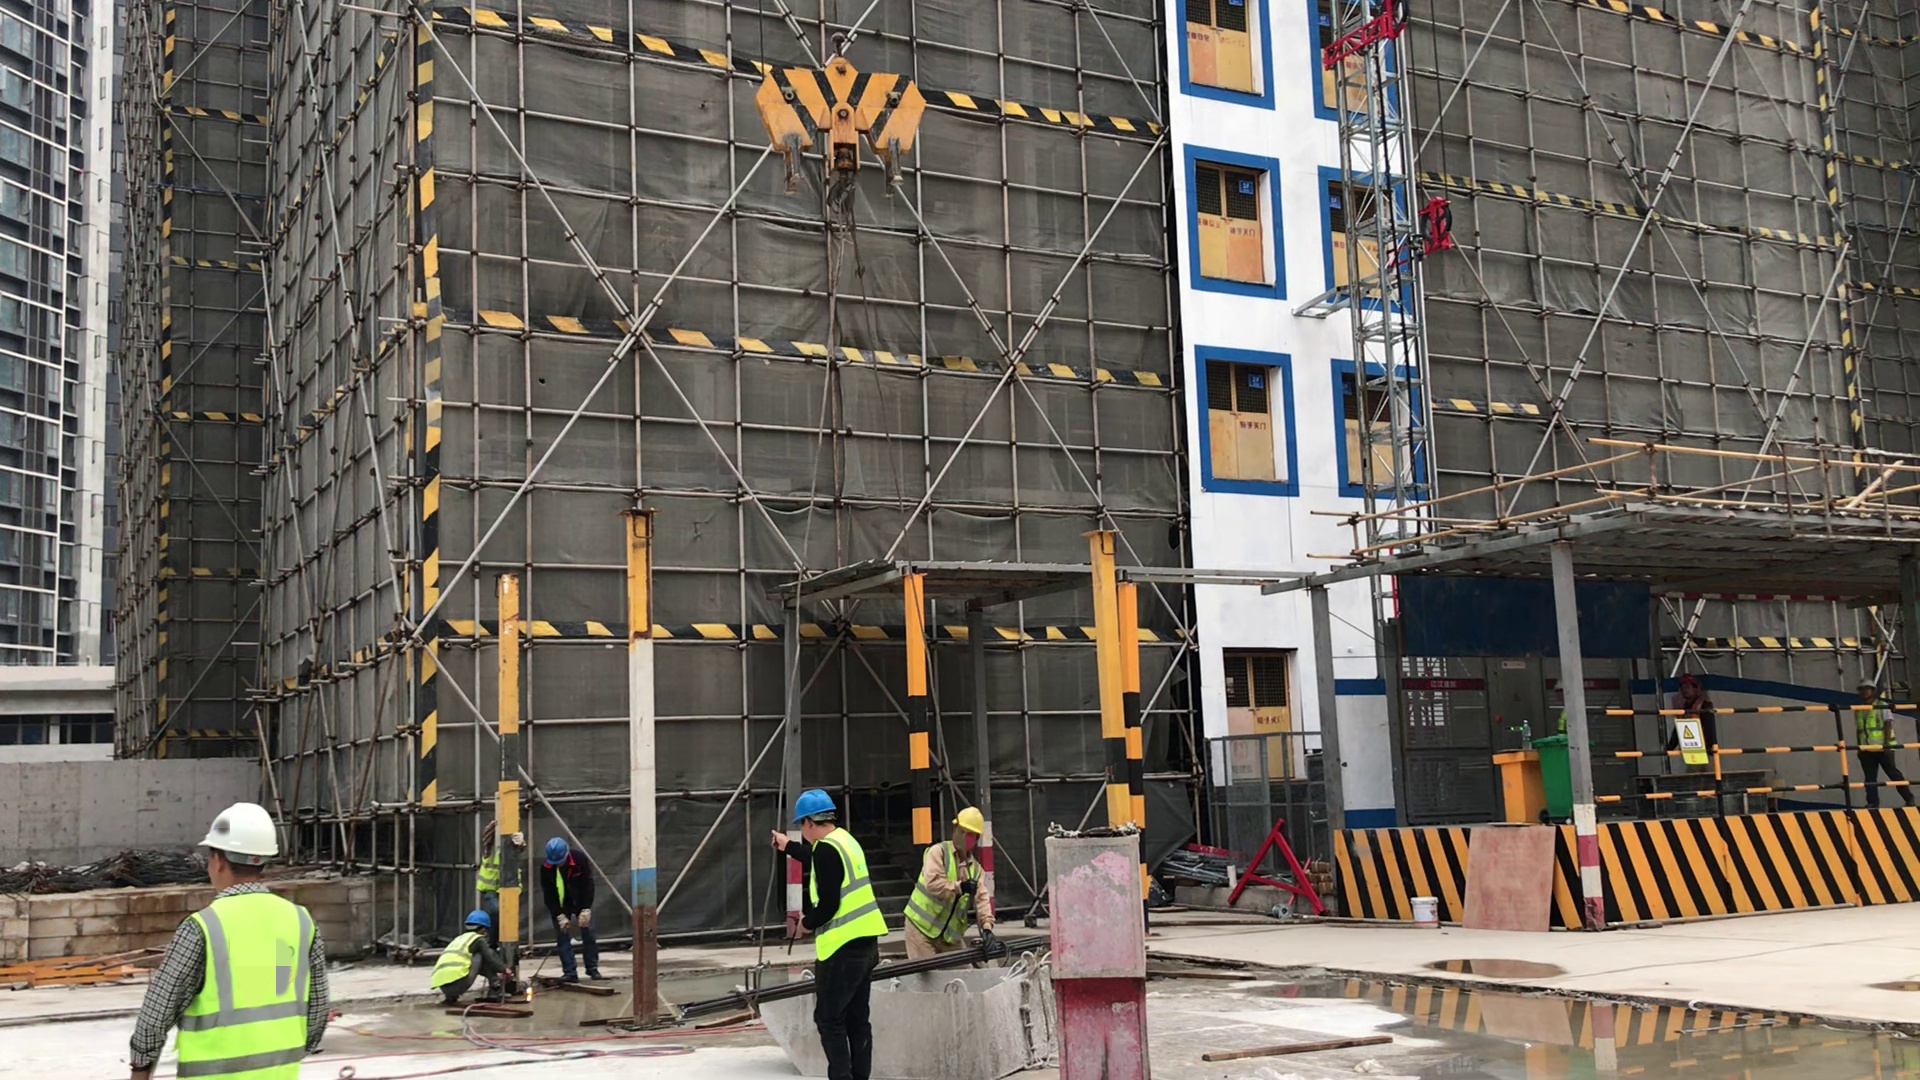fence: (1571, 700, 1920, 812)
helmet: (197, 791, 304, 864), (785, 788, 840, 831), (947, 796, 990, 849), (465, 896, 508, 933), (539, 834, 574, 865), (1857, 673, 1883, 694), (1546, 677, 1573, 694), (1674, 672, 1701, 689)
hook: (723, 28, 949, 230)
hopper: (745, 947, 1059, 1080)
person: (121, 773, 363, 1080), (758, 766, 903, 1080), (517, 815, 644, 1006), (890, 784, 1006, 987), (440, 891, 524, 1030), (1846, 673, 1903, 807), (1662, 674, 1723, 754), (1542, 674, 1588, 743)
rebar: (671, 968, 821, 1037), (880, 928, 1063, 977)
slogan: (1653, 703, 1733, 795)
vest: (145, 892, 343, 1080), (793, 823, 898, 972), (905, 832, 991, 951), (463, 815, 513, 899), (429, 922, 483, 997), (543, 846, 595, 922), (1849, 700, 1899, 756), (1672, 699, 1713, 750), (1550, 705, 1574, 735)
